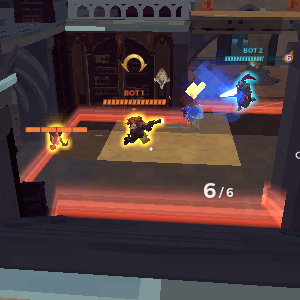model: (121, 112, 155, 150)
